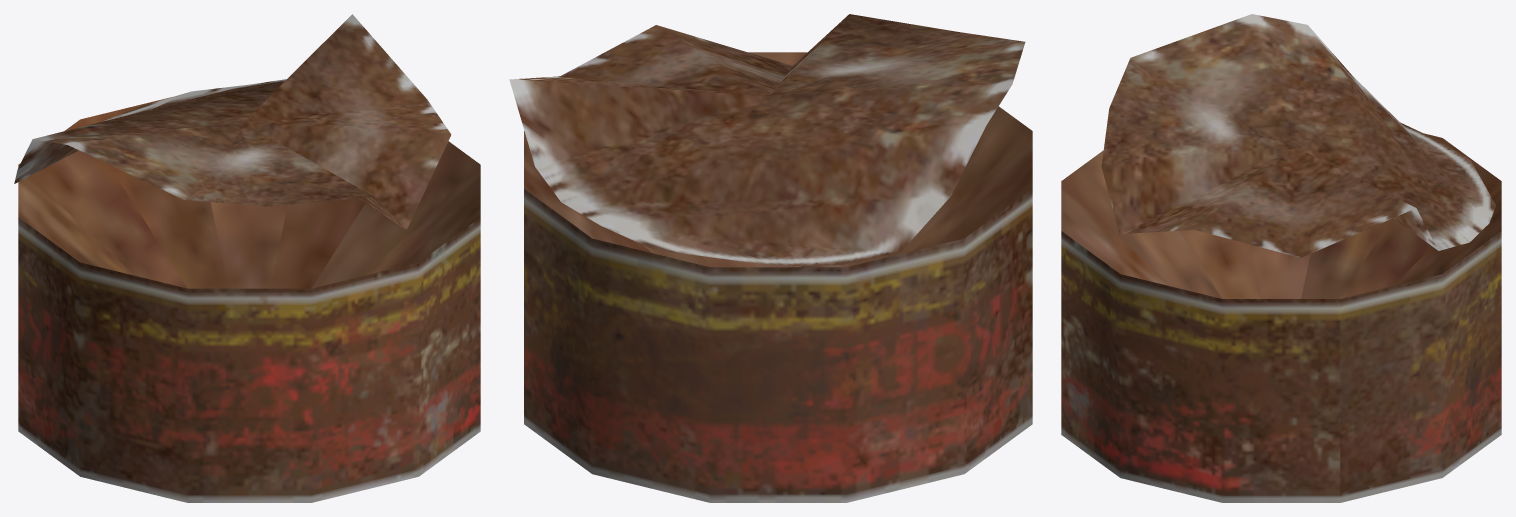
File: SM_TrashCan_01_D.fbx
3 views of the same model, side by side, from view 1: azimuth 30°, elevation 25°; view 2: azimuth 150°, elevation 25°; view 3: azimuth 270°, elevation 25° (orthographic). The views are drawn at different scales.
Visible parts, largest first — view 1: SM_TrashCan_01_D; view 2: SM_TrashCan_01_D; view 3: SM_TrashCan_01_D.
Part boxes in pixels (box(x1,y1,x2,y2)): SM_TrashCan_01_D: box(14, 14, 480, 502); SM_TrashCan_01_D: box(509, 14, 1032, 502); SM_TrashCan_01_D: box(1061, 14, 1501, 502).
Size of the model in its own units: 9.56 by 9.49 by 7.24.
Materials: 1 (1 with a texture image).
